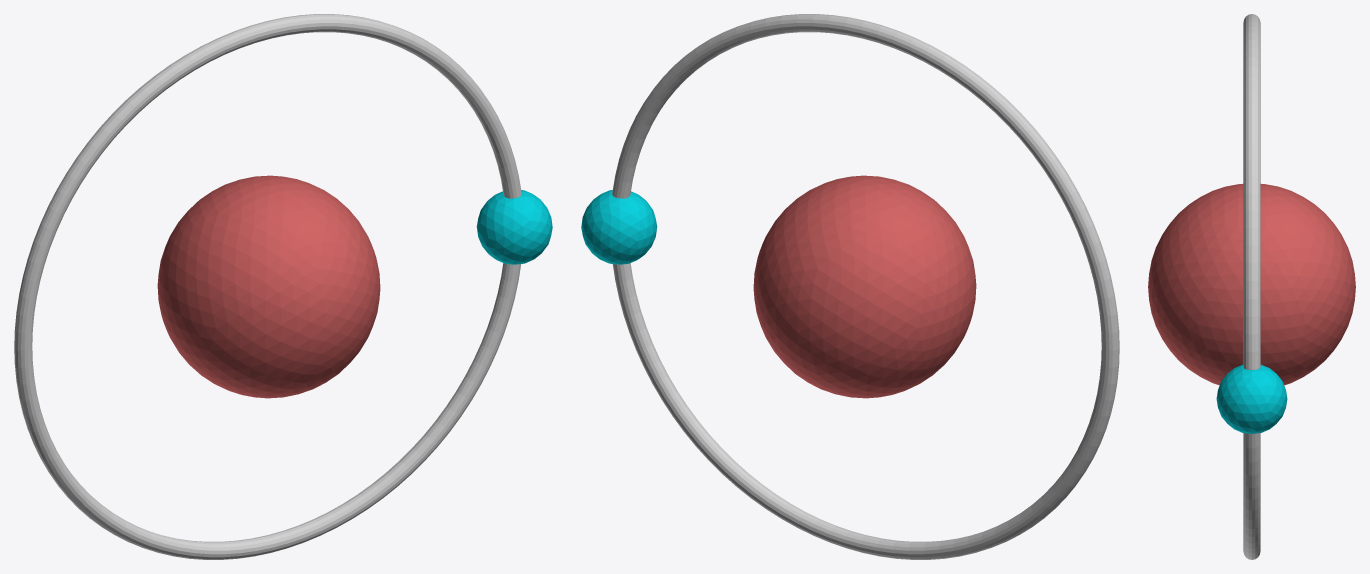
The picture shows the model from 3 angles, left to right: view 1: azimuth 30°, elevation 25°; view 2: azimuth 150°, elevation 25°; view 3: azimuth 270°, elevation 25°; orthographic projection. The views are drawn at different scales.
Visible parts, largest first — view 1: Nucleo_H, Camada_1, e1; view 2: Nucleo_H, Camada_1, e1; view 3: Nucleo_H, Camada_1, e1.
Boxes of the visible parts, x1=… form: Nucleo_H: x1=157, y1=175, x2=380, y2=398; Camada_1: x1=14, y1=14, x2=521, y2=559; e1: x1=476, y1=190, x2=552, y2=264; Nucleo_H: x1=753, y1=175, x2=976, y2=398; Camada_1: x1=612, y1=14, x2=1119, y2=559; e1: x1=581, y1=190, x2=657, y2=264; Nucleo_H: x1=1148, y1=184, x2=1355, y2=385; Camada_1: x1=1243, y1=14, x2=1260, y2=559; e1: x1=1216, y1=364, x2=1287, y2=433.
Size of the model in its own units: 1.21 by 1.16 by 0.44.
